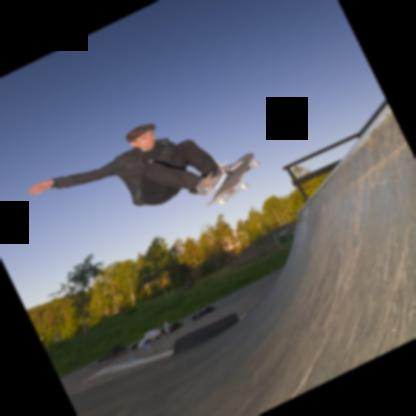backpack: (192, 306, 216, 321), (161, 321, 180, 335)
